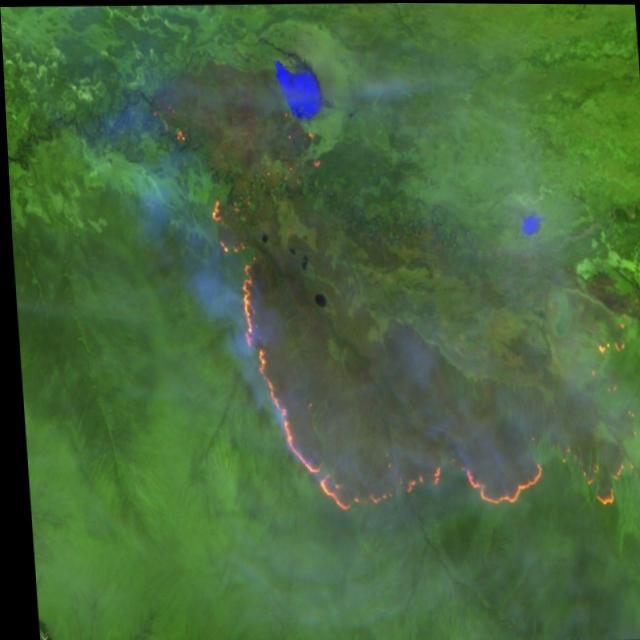fire: (203, 183, 640, 517)
